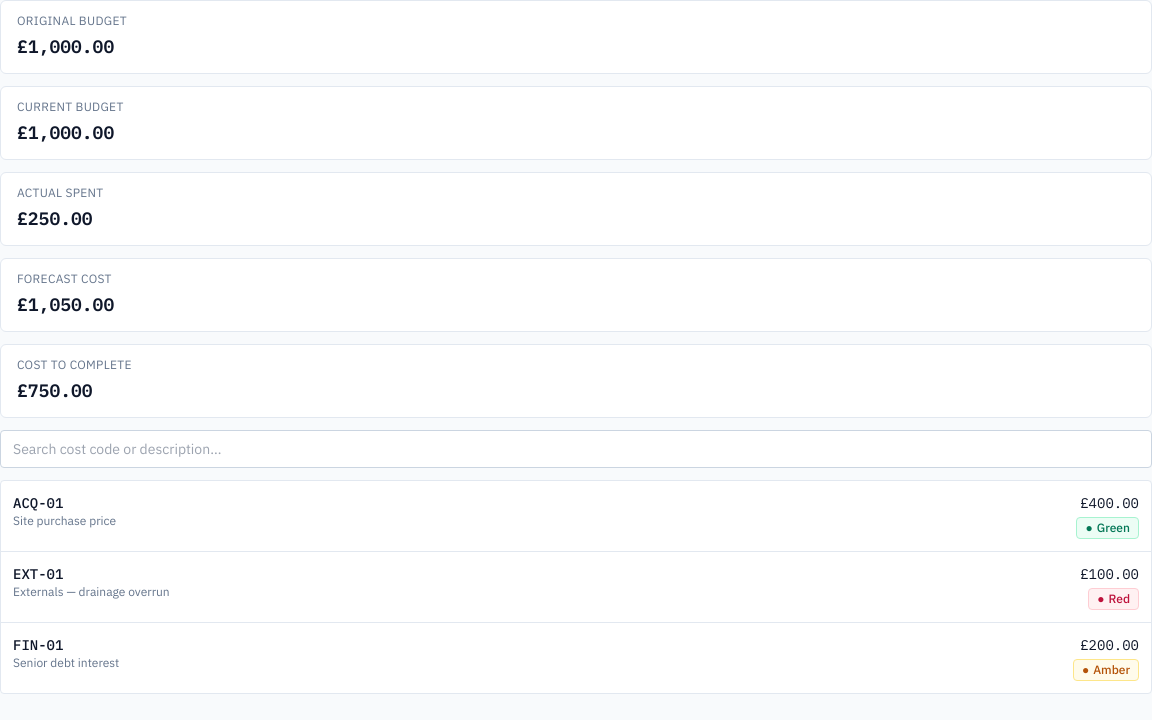
Test: Mobile line drawer — tap → drawer → editable Notes only › NotesCell in drawer is EDITABLE for users with budgets.edit
Click the button with test id "bg2-mobile-line-l-land". click: (38, 503)
box: [1,481,1151,551]
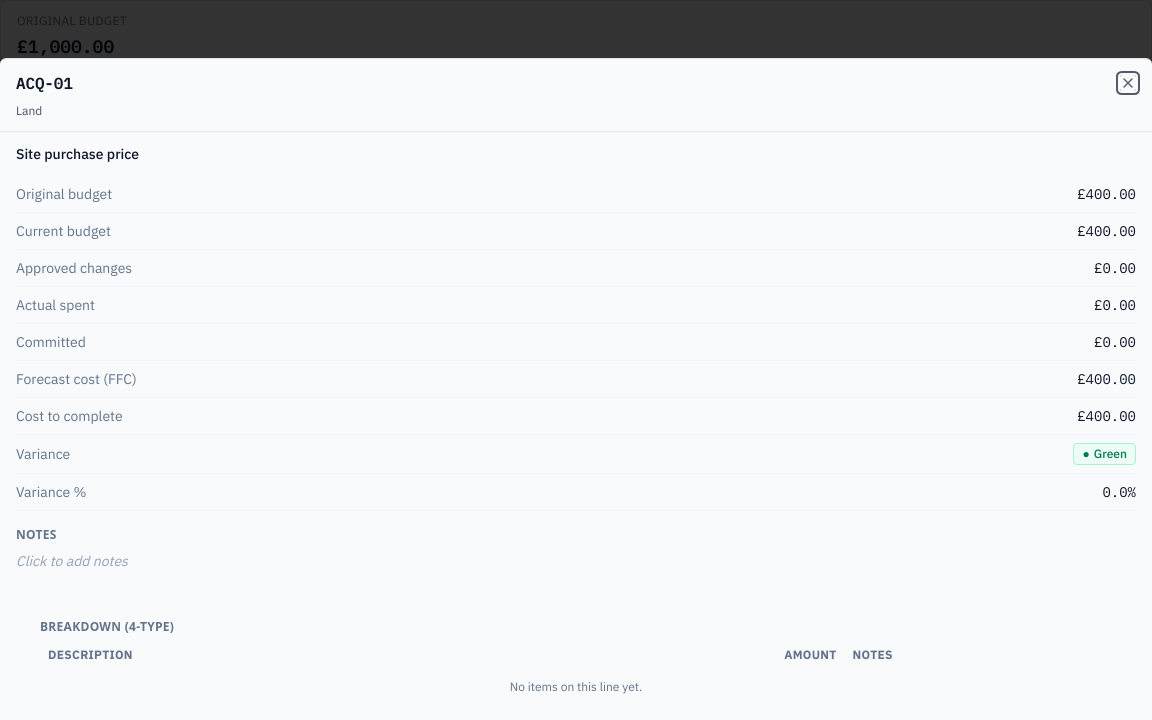
Expected: the element with test id "bg2-mobile-drawer-notes" is shown, [16,526,128,571]
Expected: the button "Click to add notes" is shown, [16,551,128,571]
